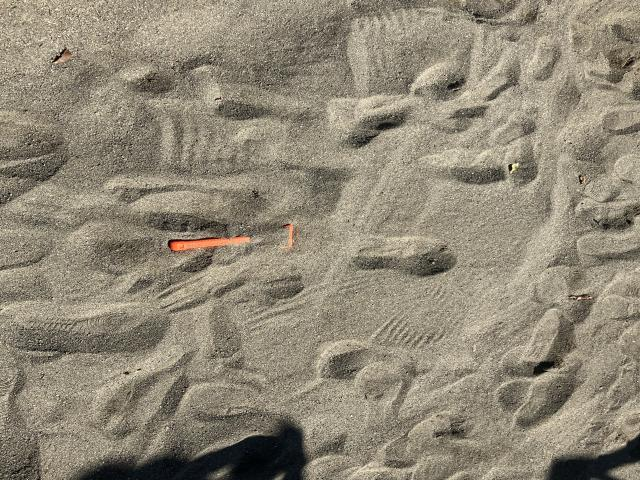hammer: (170, 224, 294, 256)
